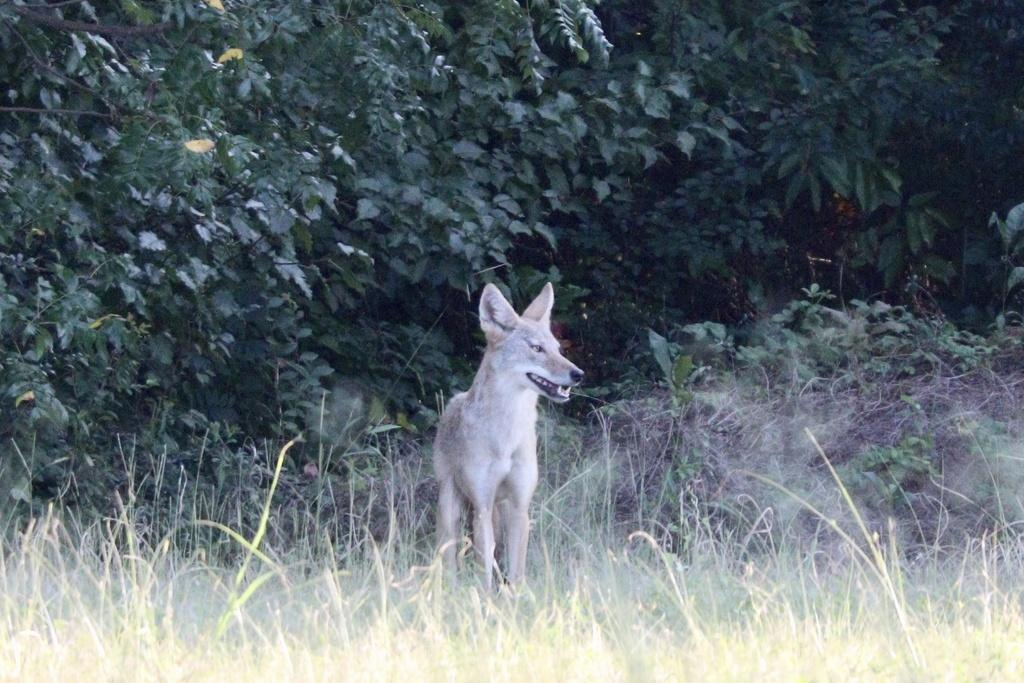Coyote: (425, 275, 587, 592)
